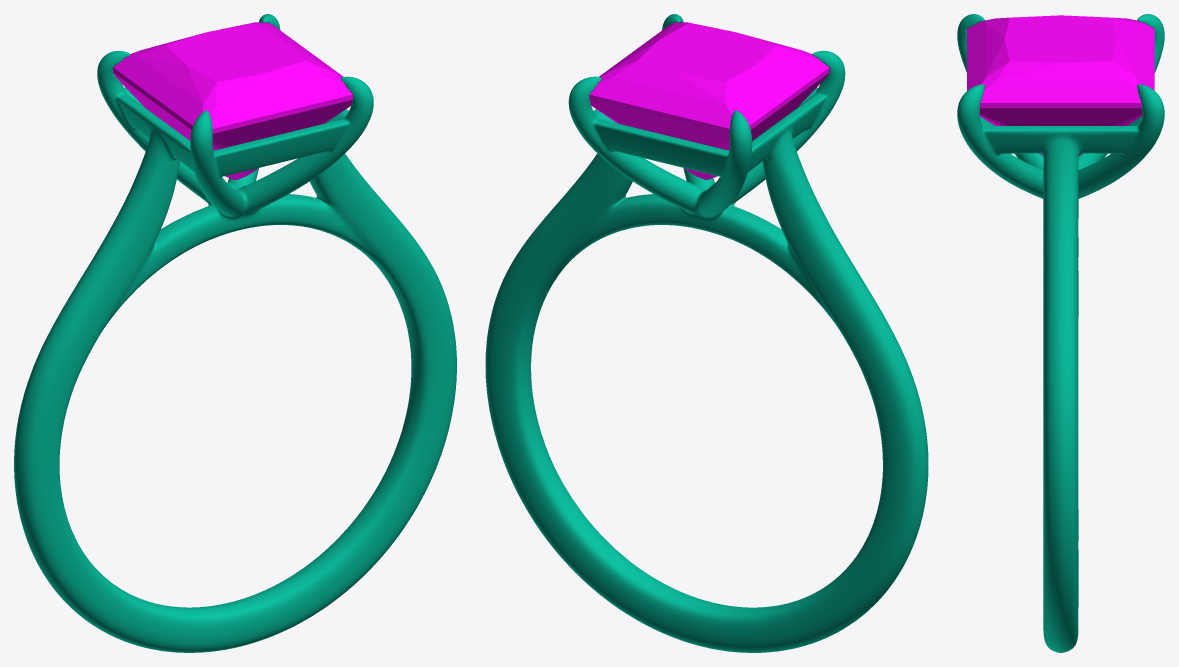
The model's file is BE1776_PR_200ct_RENDER.glb.
3 renders of one model, left to right at view 1: azimuth 30°, elevation 25°; view 2: azimuth 150°, elevation 25°; view 3: azimuth 270°, elevation 25°, orthographic.
Visible parts, largest first — view 1: Metal 01, CS_Diamond_Princess; view 2: Metal 01, CS_Diamond_Princess; view 3: Metal 01, CS_Diamond_Princess.
Part boxes in pixels (x1,y1,x2,y2): Metal 01: (14,14,456,652); CS_Diamond_Princess: (112,22,353,179); Metal 01: (485,14,928,652); CS_Diamond_Princess: (589,22,829,179); Metal 01: (957,14,1164,652); CS_Diamond_Princess: (967,15,1154,155).
Bounding box in the file's own units: 20.15 × 26.03 × 8.29.
